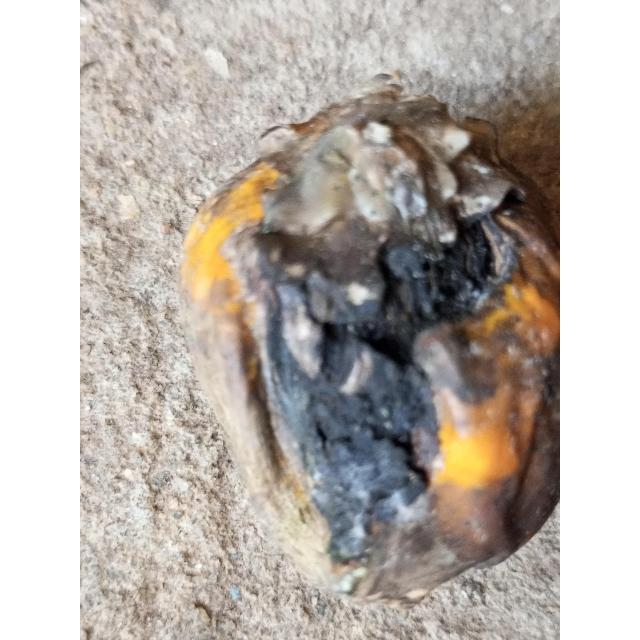damaged: (181, 74, 560, 607)
